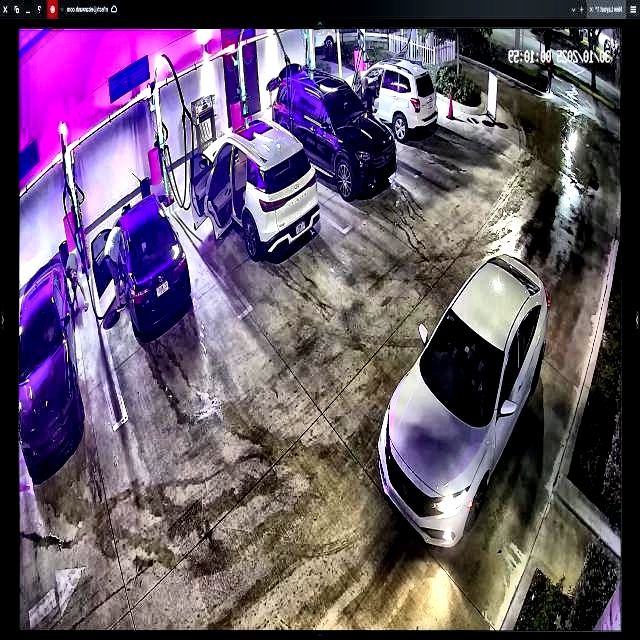Car: (379, 253, 550, 548), (191, 118, 318, 258), (272, 69, 395, 193), (93, 192, 191, 340)
